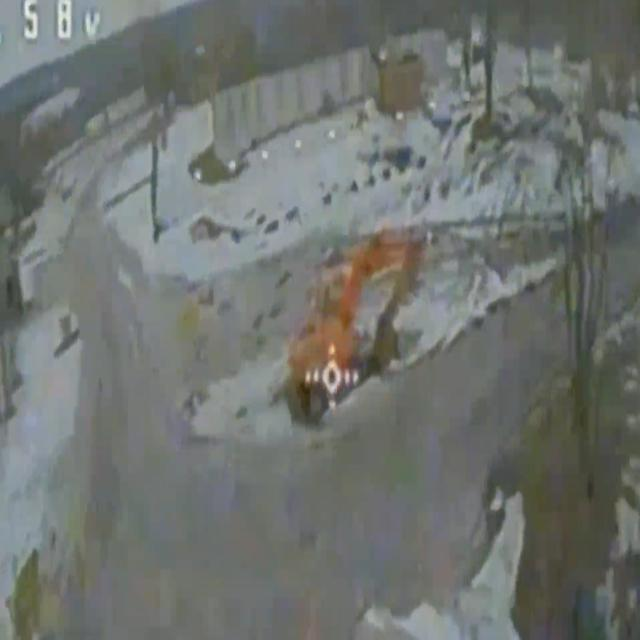vehicle: (286, 224, 430, 437)
